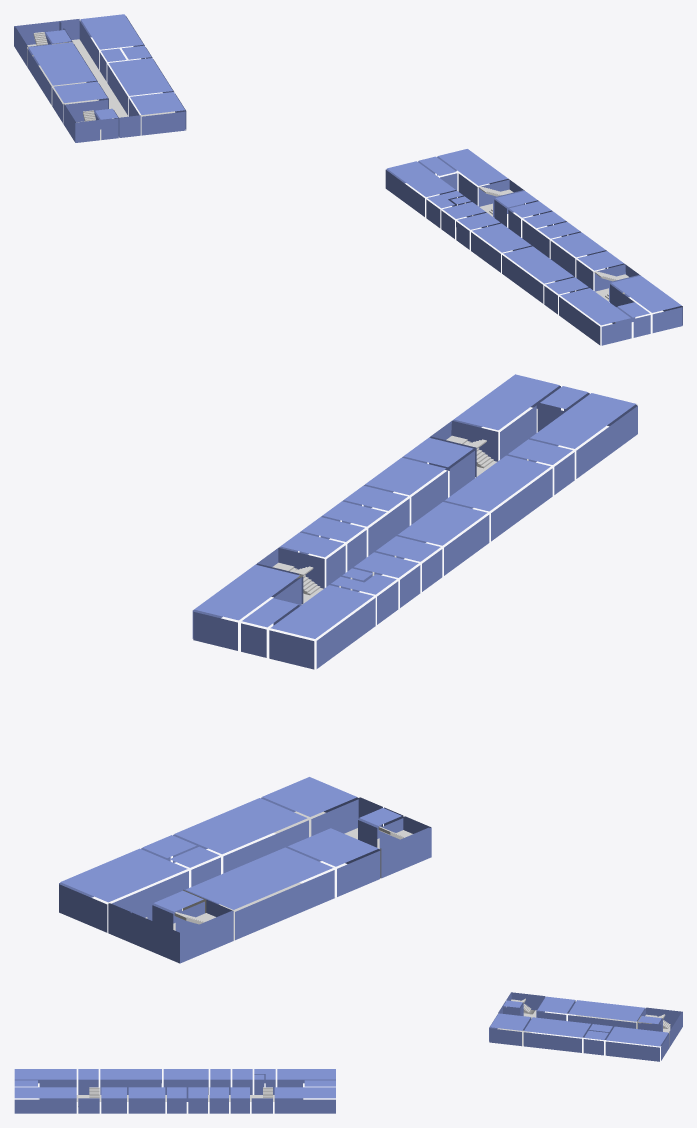
File: dstu_7.glb
The picture shows the model from 3 angles, top to bottom: view 1: azimuth 30°, elevation 25°; view 2: azimuth 150°, elevation 25°; view 3: azimuth 270°, elevation 25°; orthographic projection. The views are drawn at different scales.
Parts seen in each view (by area): view 1: 7, 67, L7L; view 2: 7, 67, L7L; view 3: 7, 67, L7L.
Part boxes in pixels (bbox=[...]): 7: bbox=[385, 149, 682, 345]; 67: bbox=[14, 14, 186, 142]; L7L: bbox=[32, 32, 628, 299]; 7: bbox=[192, 374, 637, 669]; 67: bbox=[59, 777, 431, 963]; L7L: bbox=[174, 435, 493, 924]; 7: bbox=[14, 1069, 335, 1113]; 67: bbox=[489, 992, 682, 1061]; L7L: bbox=[78, 998, 670, 1106].
Size of the model in its own units: 43.4 by 4.1 by 121.
